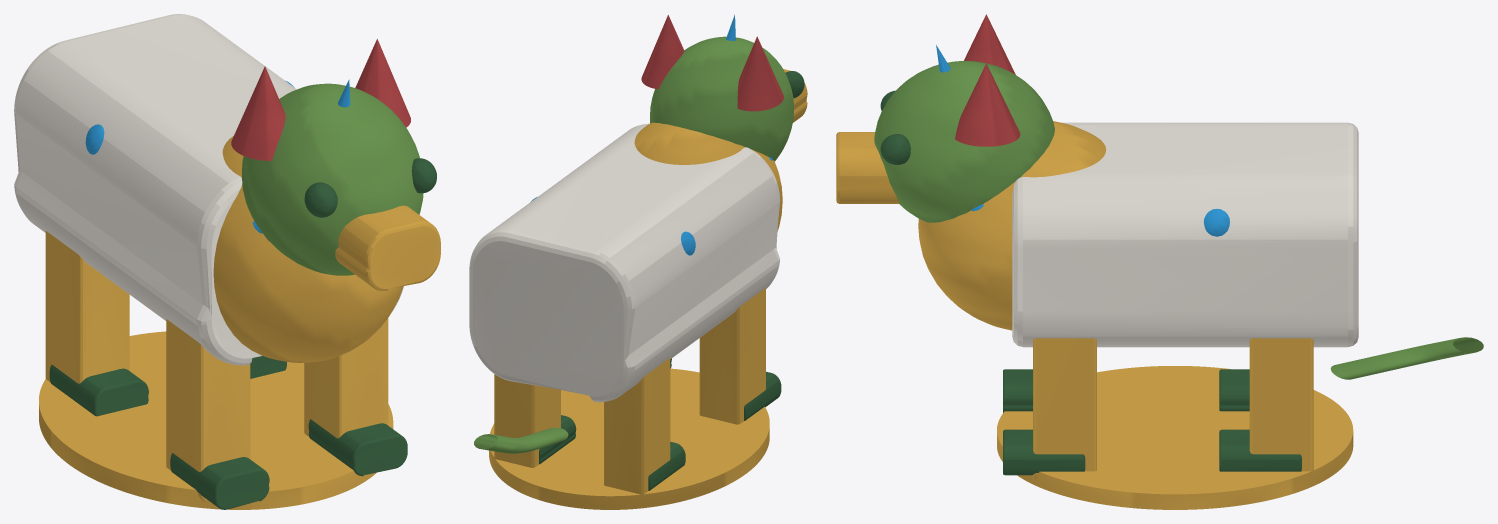
Rendered from 1295_爬行动物图鉴_蓝尾石龙子.glb.
3 renders of one model, left to right at view 1: azimuth 30°, elevation 25°; view 2: azimuth 150°, elevation 25°; view 3: azimuth 270°, elevation 25°, orthographic. The views are drawn at different scales.
Visible parts, largest first — view 1: card_1295; view 2: card_1295; view 3: card_1295.
Boxes of the visible parts, x1,y1,x2,y2 form: card_1295: (14, 14, 440, 509); card_1295: (469, 14, 807, 509); card_1295: (836, 14, 1483, 509).
Size of the model in its own units: 0.676 by 1 by 1.44.
